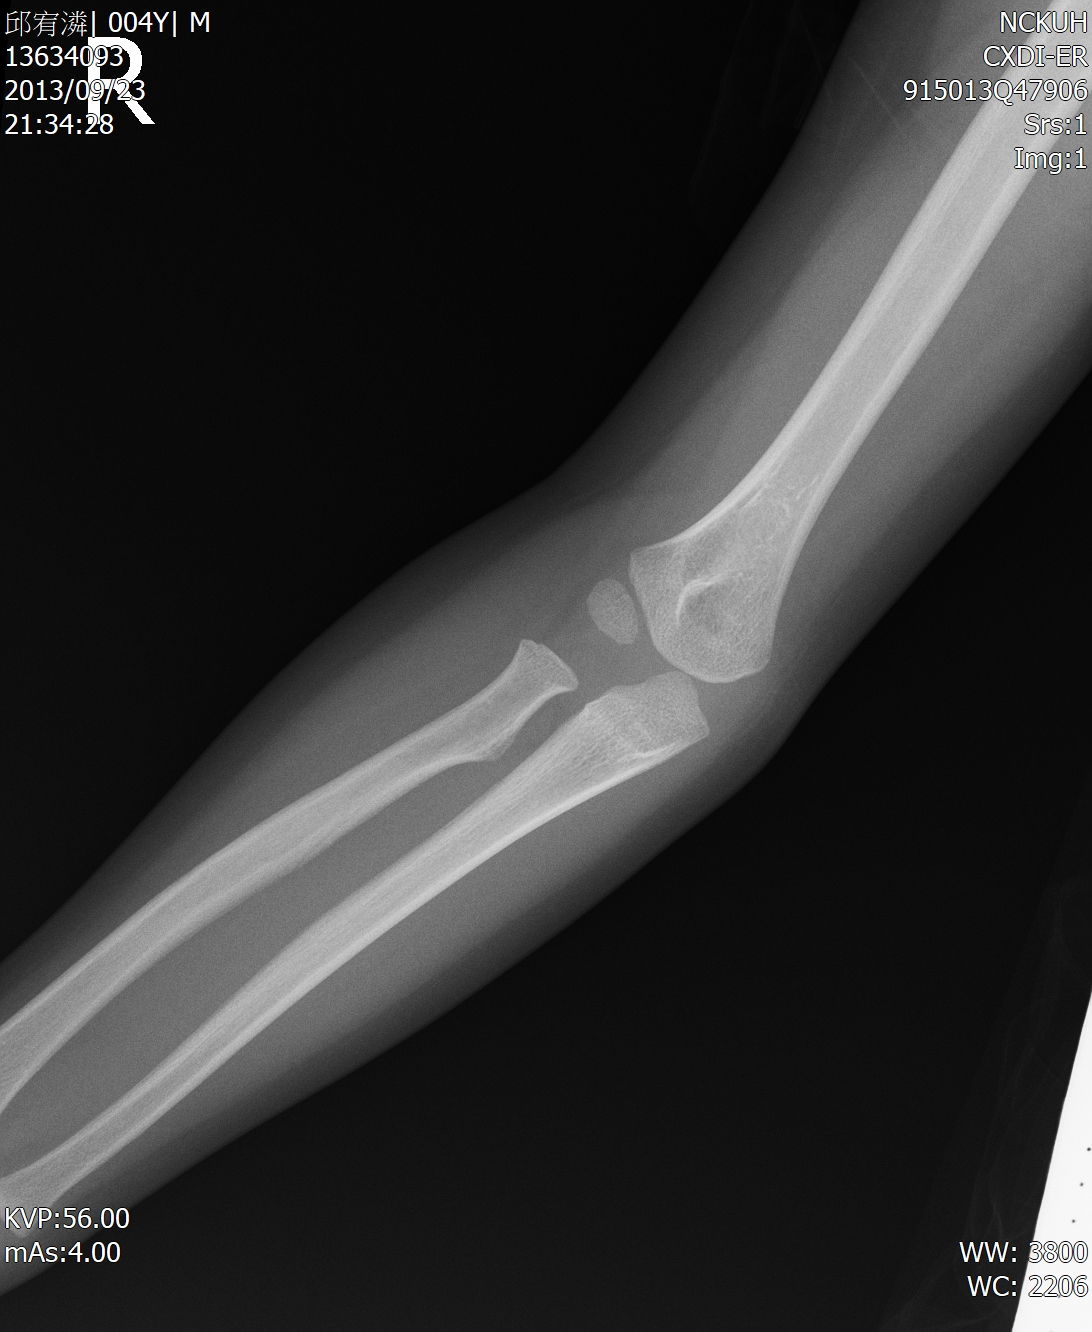Normal: (347, 372, 901, 964)
